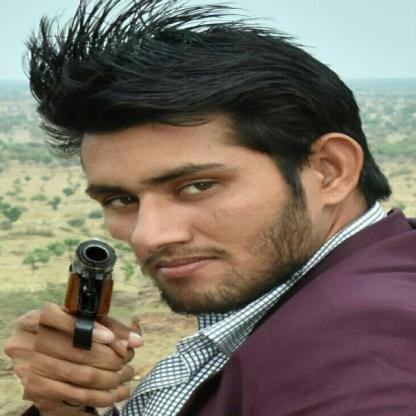handgun: (31, 230, 140, 415)
